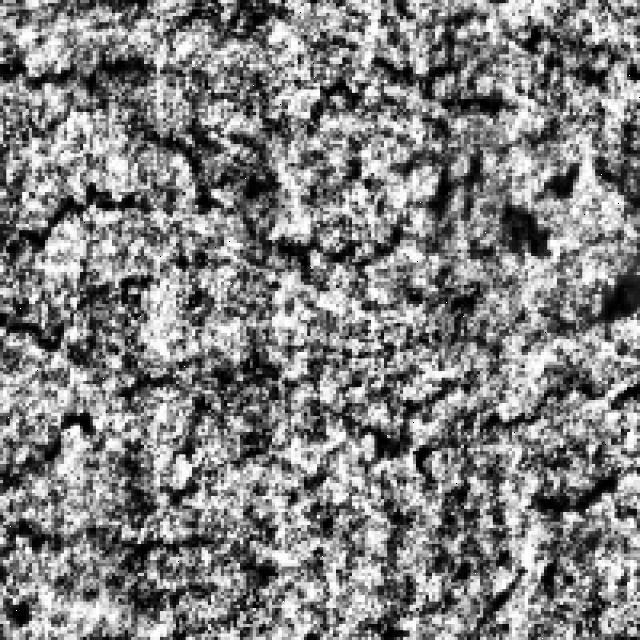Pitted_Surface: (0, 9, 579, 228), (0, 307, 496, 554), (0, 134, 490, 356), (403, 374, 637, 518)
